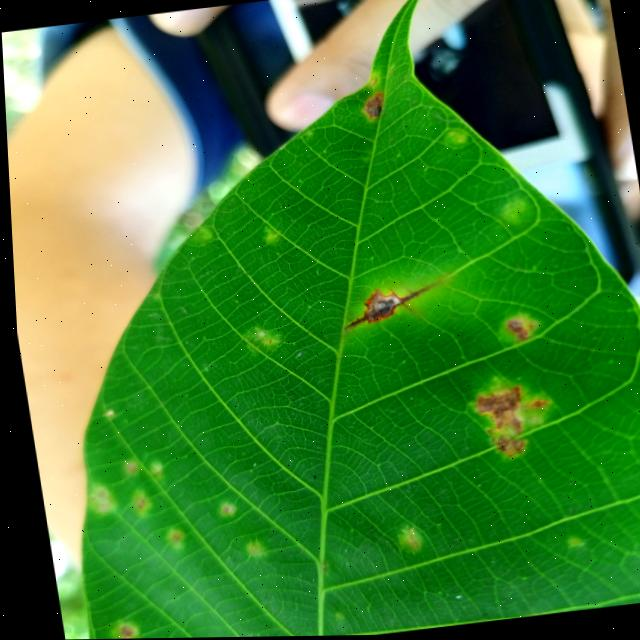Corynespora: (333, 285, 430, 331)
